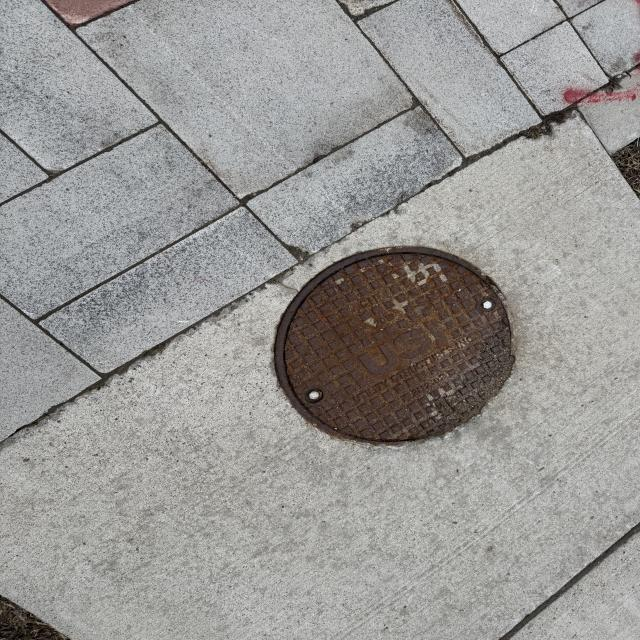Manhole: (265, 250, 523, 446)
